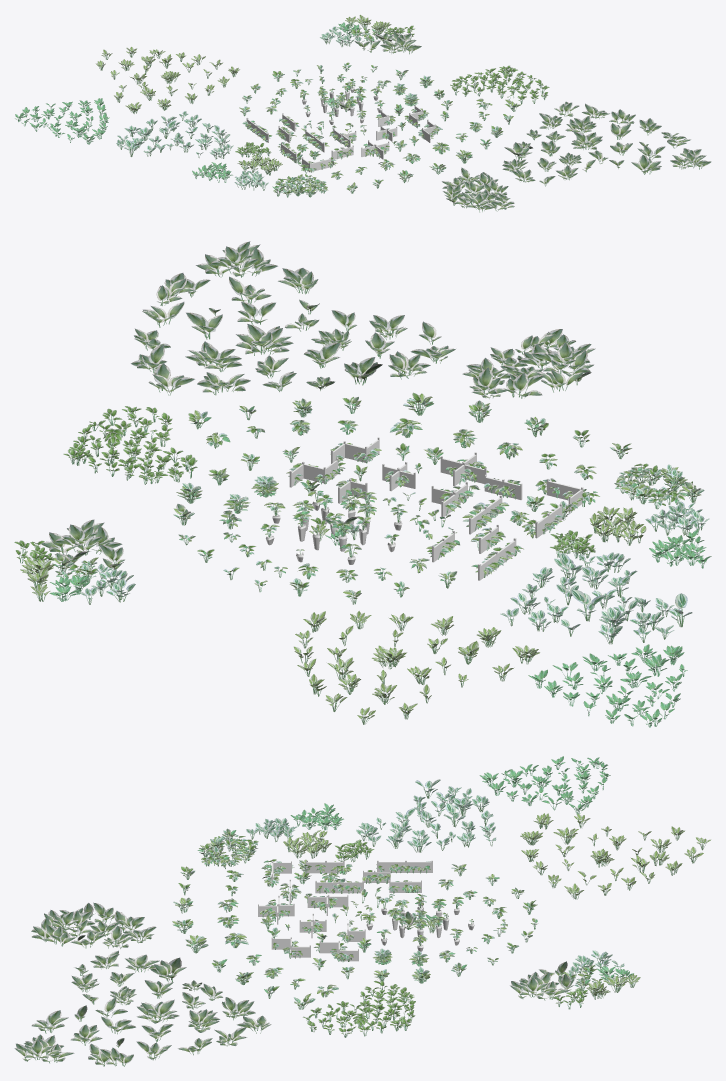
File: smallplant_wg_00.fbx
The picture shows the model from 3 angles, top to bottom: view 1: azimuth 30°, elevation 25°; view 2: azimuth 150°, elevation 25°; view 3: azimuth 270°, elevation 25°; orthographic projection. The views are drawn at different scales.
Visible parts, largest first — view 1: plant_small_wg_04V.002, plant_small_wg_04V.003, plant_small_wg_04V.001, Vase_00_round_collection, plant_small_wg_04J.001, plant_small_wg_04P.001; view 2: plant_small_wg_04V.001, plant_small_wg_04V.002, plant_small_wg_04V.003, Vase_00_round_collection, plant_small_wg_04J.001, plant_small_wg_04P.001, plant_small_wg_04W.001; view 3: plant_small_wg_04V.001, plant_small_wg_04V.003, plant_small_wg_04V.002, Vase_00_round_collection, plant_small_wg_04J.001, plant_small_wg_04W.001, plant_small_wg_04W.002, plant_small_wg_04P.001.
Boxes of the visible parts, <box> form: plant_small_wg_04V.002: <box>454,190,497,212</box>; plant_small_wg_04V.003: <box>380,32,421,54</box>; plant_small_wg_04V.001: <box>670,148,711,169</box>; Vase_00_round_collection: <box>302,87,382,124</box>; plant_small_wg_04J.001: <box>571,132,602,149</box>; plant_small_wg_04P.001: <box>565,116,596,133</box>; plant_small_wg_04V.001: <box>196,241,277,277</box>; plant_small_wg_04V.002: <box>519,342,595,374</box>; plant_small_wg_04V.003: <box>41,519,122,555</box>; Vase_00_round_collection: <box>266,500,402,564</box>; plant_small_wg_04J.001: <box>235,324,293,355</box>; plant_small_wg_04P.001: <box>185,341,242,371</box>; plant_small_wg_04W.001: <box>156,273,210,305</box>; plant_small_wg_04V.001: <box>14,1034,74,1063</box>; plant_small_wg_04V.003: <box>510,972,569,1000</box>; plant_small_wg_04V.002: <box>44,908,94,937</box>; Vase_00_round_collection: <box>366,902,474,951</box>; plant_small_wg_04J.001: <box>137,999,179,1023</box>; plant_small_wg_04W.001: <box>88,1043,133,1066</box>; plant_small_wg_04W.002: <box>31,918,75,946</box>; plant_small_wg_04P.001: <box>188,1009,219,1032</box>.
Bounding box in the file's own units: 2869 × 97.81 × 2756.
